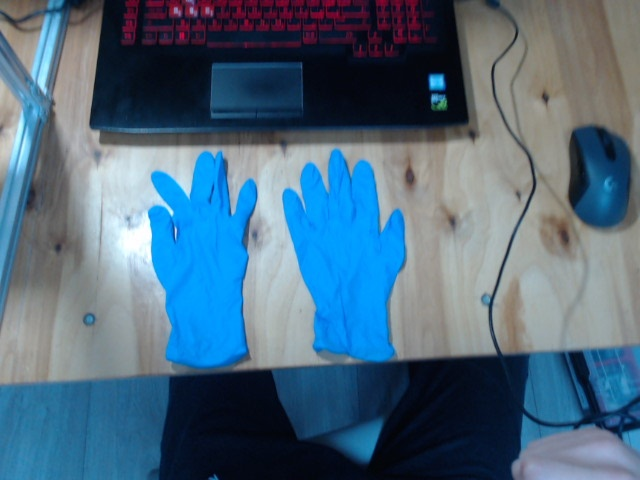medical_glove: (282, 149, 405, 361), (148, 152, 257, 368)
